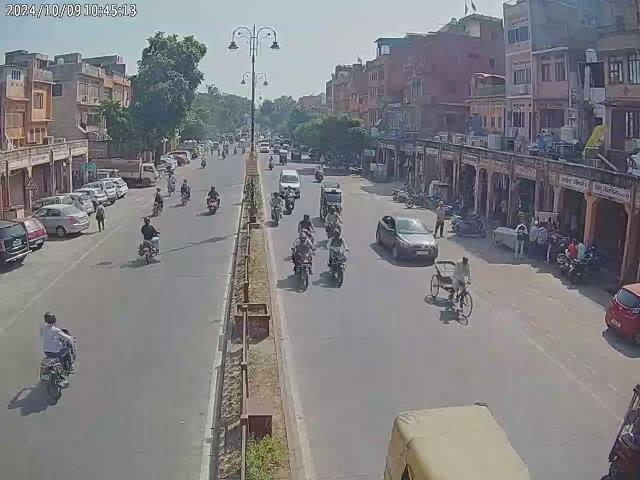auto: (382, 402, 538, 480), (320, 183, 342, 220)
bicycle: (94, 200, 106, 230)
bicycle-rider: (166, 172, 177, 195)
car: (376, 215, 438, 264), (31, 198, 91, 238), (605, 280, 640, 346), (0, 214, 36, 264), (74, 177, 127, 203), (278, 169, 300, 196)
helmet: (42, 310, 58, 325), (299, 233, 308, 244), (332, 228, 341, 238), (144, 216, 152, 226)
motorbike: (568, 253, 602, 285), (404, 189, 429, 209)
motorbike-rider: (36, 310, 80, 406), (290, 229, 316, 286), (137, 216, 163, 264), (326, 228, 348, 284), (268, 189, 284, 225), (150, 187, 164, 216), (180, 179, 192, 204)
person: (512, 218, 527, 258), (434, 202, 446, 238)
rickshow: (430, 254, 473, 319)
scooty: (453, 214, 485, 240)
scooty-rider: (203, 186, 220, 214), (283, 186, 297, 214)
